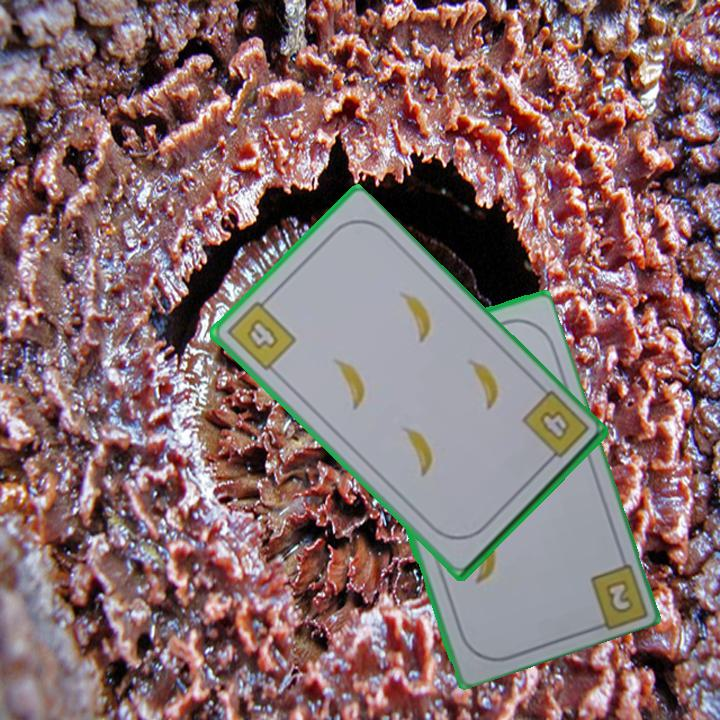2b: (604, 579, 633, 613)
4b: (223, 292, 299, 374), (518, 387, 592, 469)
